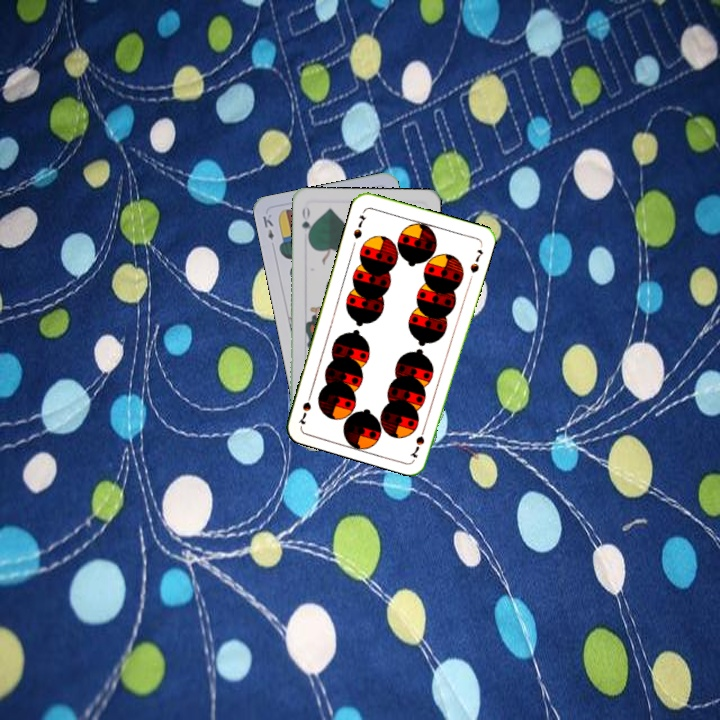EK: (259, 210, 276, 243)
GO: (298, 203, 315, 243)
S7: (407, 421, 429, 460), (349, 211, 369, 242)
